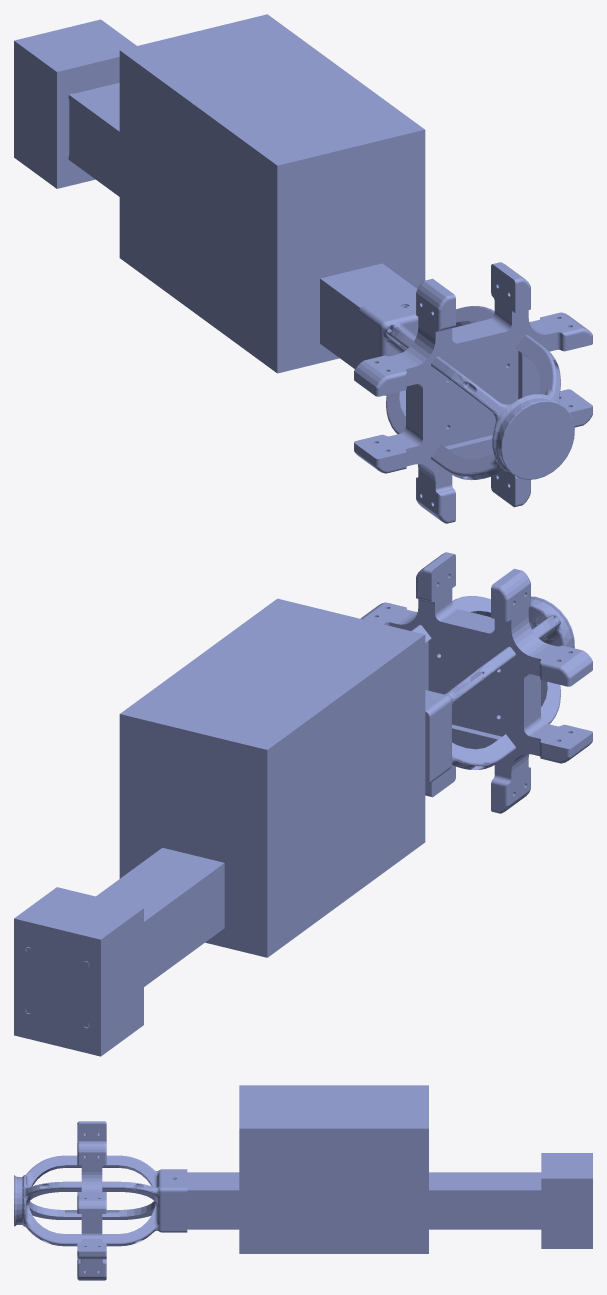
Rendered from occluder_pole.obj.
3 views of the same model, one above another, from view 1: azimuth 30°, elevation 25°; view 2: azimuth 150°, elevation 25°; view 3: azimuth 270°, elevation 25° (orthographic). The views are drawn at different scales.
Size of the model in its own units: 0.175 by 0.2075 by 0.671.
